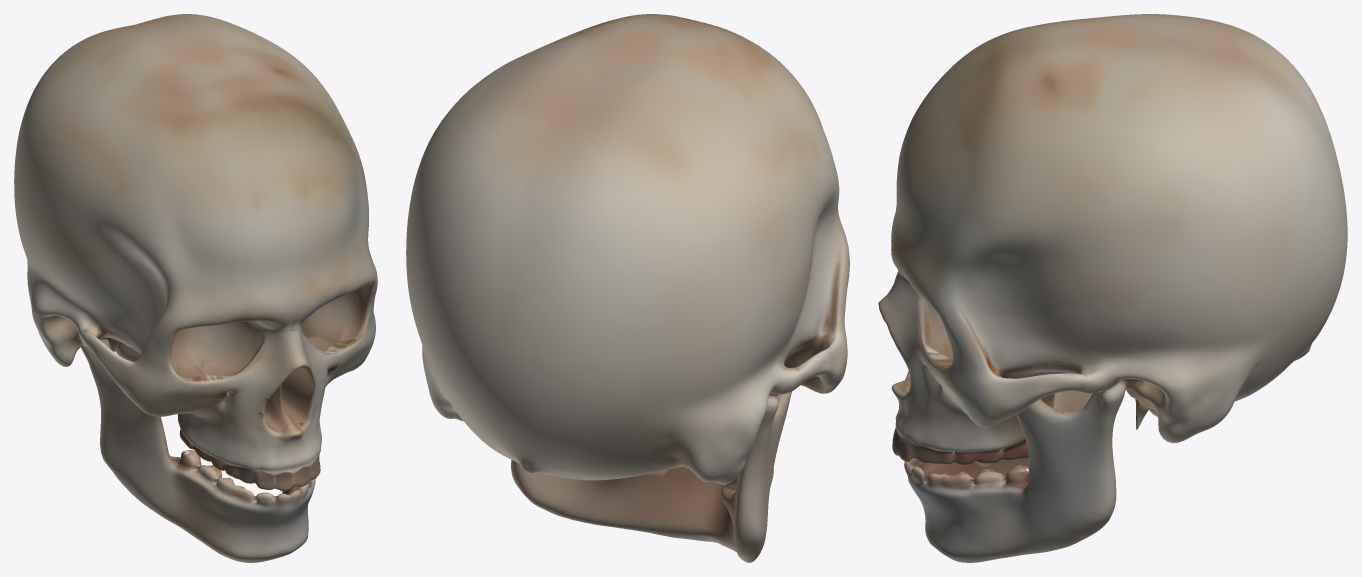
The model's file is realistic_human_skull_anatomical_3d_model.fbx.
3 renders of one model, left to right at view 1: azimuth 30°, elevation 25°; view 2: azimuth 150°, elevation 25°; view 3: azimuth 270°, elevation 25°, orthographic. The views are drawn at different scales.
Visible parts, largest first — view 1: node_97ec40d8_c865_4439_b77a_f6c445f68001_mesh0; view 2: node_97ec40d8_c865_4439_b77a_f6c445f68001_mesh0; view 3: node_97ec40d8_c865_4439_b77a_f6c445f68001_mesh0.
Boxes of the visible parts, x1=… form: node_97ec40d8_c865_4439_b77a_f6c445f68001_mesh0: x1=14, y1=14, x2=377, y2=562; node_97ec40d8_c865_4439_b77a_f6c445f68001_mesh0: x1=406, y1=14, x2=849, y2=562; node_97ec40d8_c865_4439_b77a_f6c445f68001_mesh0: x1=878, y1=14, x2=1347, y2=562.
Size of the model in its own units: 122 by 191 by 158.
Materials: 1 (1 with a texture image).
